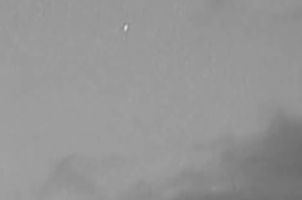Target: (125, 26, 128, 31)
